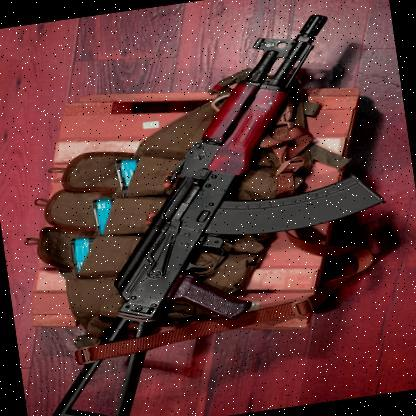rifle: (0, 13, 402, 416)
